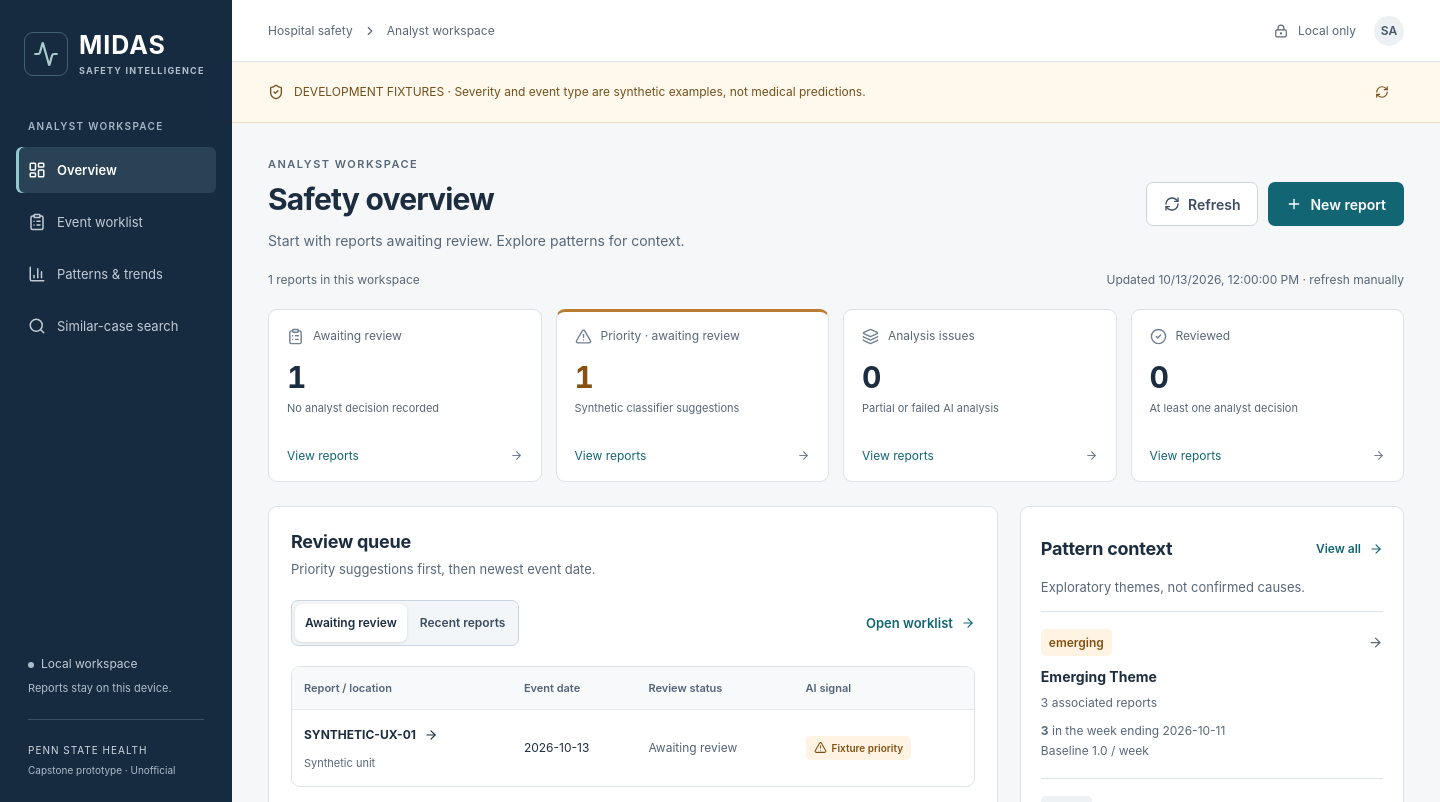
analyst UX regression checks › keeps the last dashboard snapshot visible when refresh fails and recovers
Check: the link "SYNTHETIC-UX-01" is shown, box [304,724,438,745]
Click the button "Refresh" at (1202, 204), box [1146,182,1258,226]
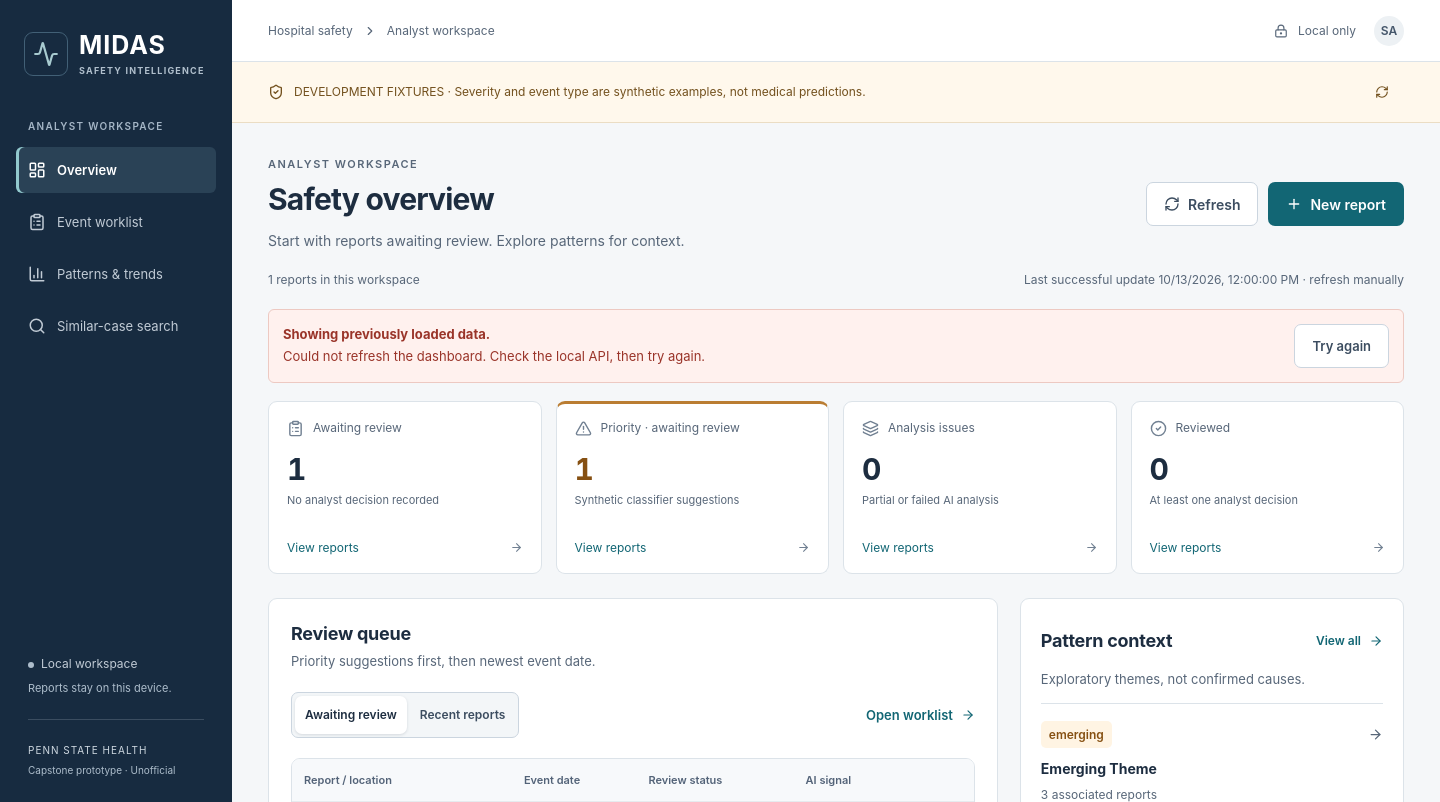
Check: the text "Showing previously loaded data." is shown, box [283,326,490,342]
Check: the text "Last successful update" is shown, box [1024,272,1155,287]
Click the button "Try again" at (1342, 346), box [1294,324,1389,368]
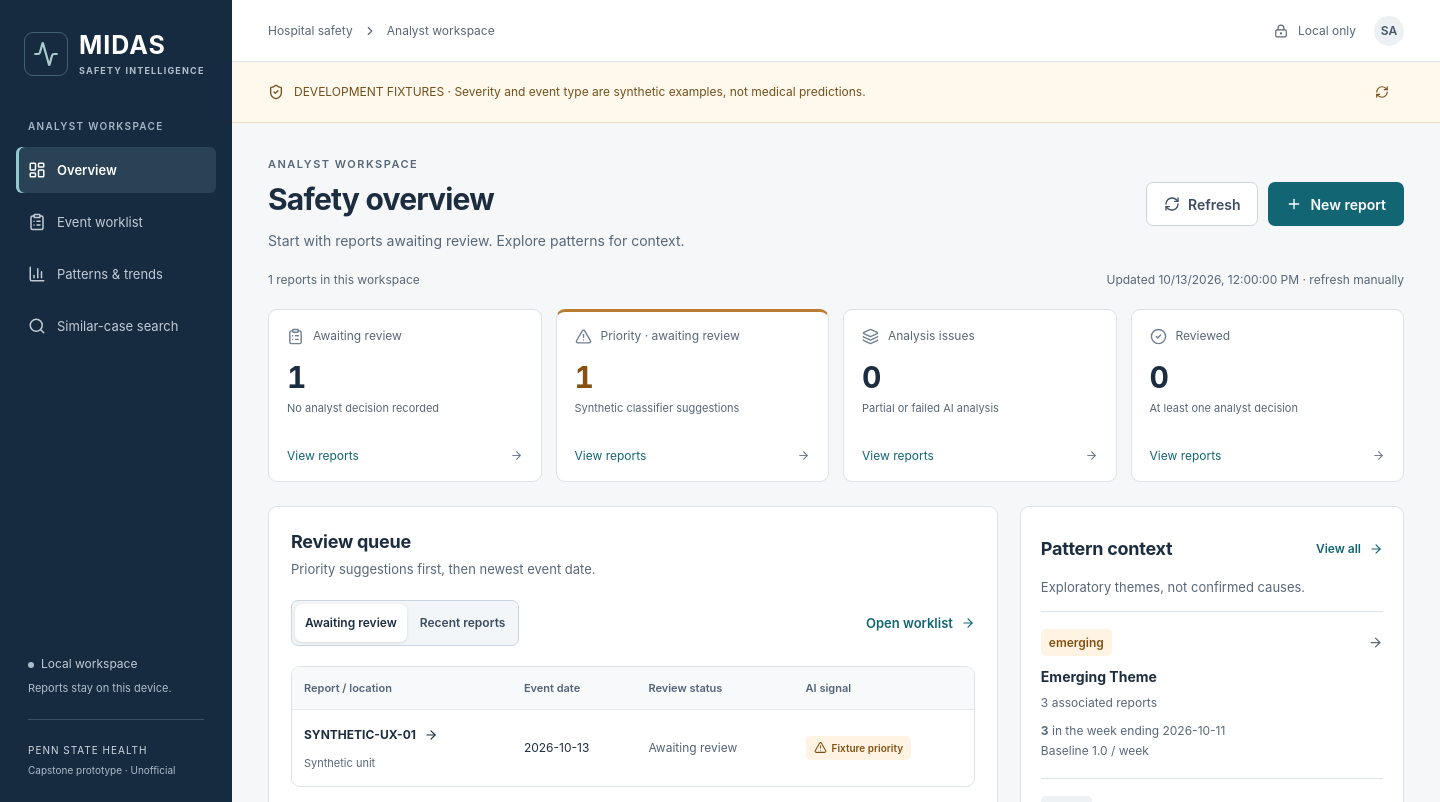
Check: the message "Showing previously loaded data.Could not refresh the dashboard. Check the local" is gone
